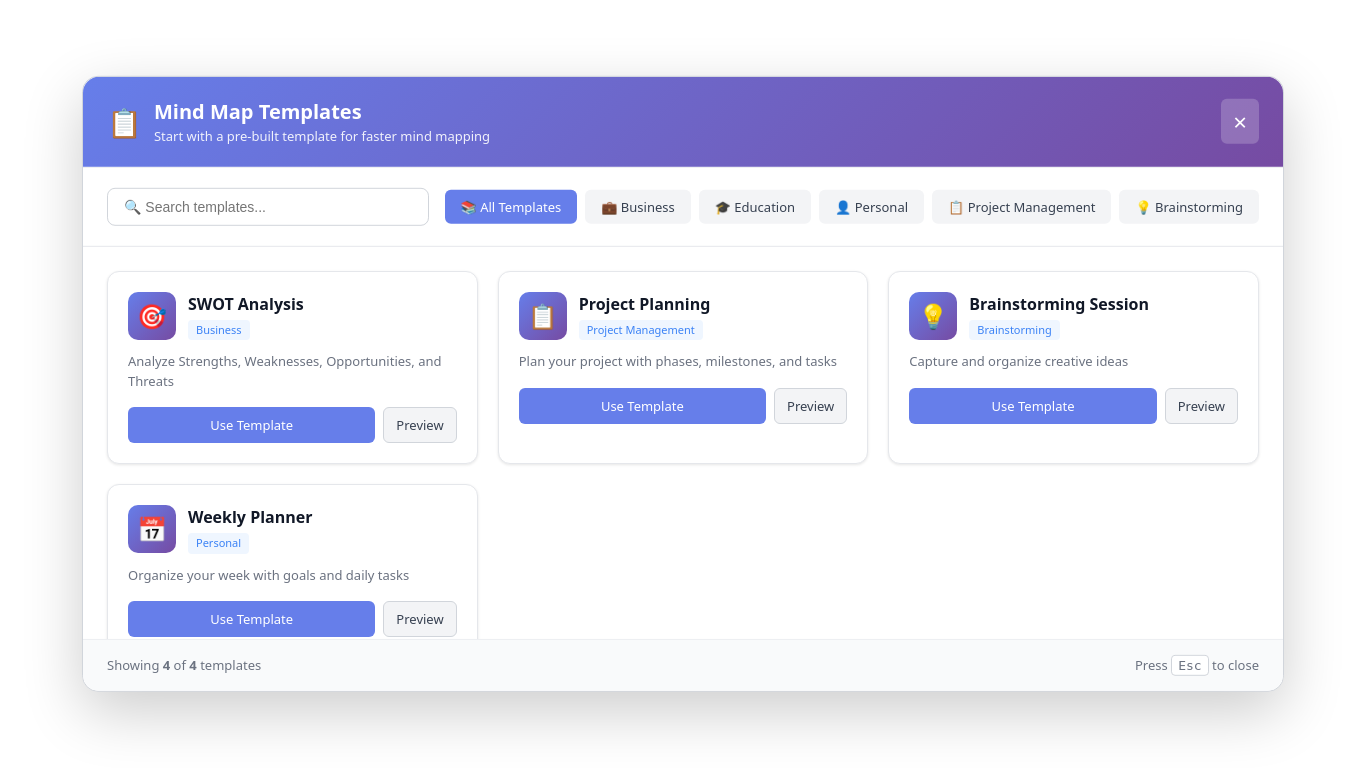
it: TemplatesPanel › template interaction › opens preview modal when "Preview" button is clicked
Click the button with aria-label "preview swot analysis template": (420, 425) [383, 407, 457, 443]
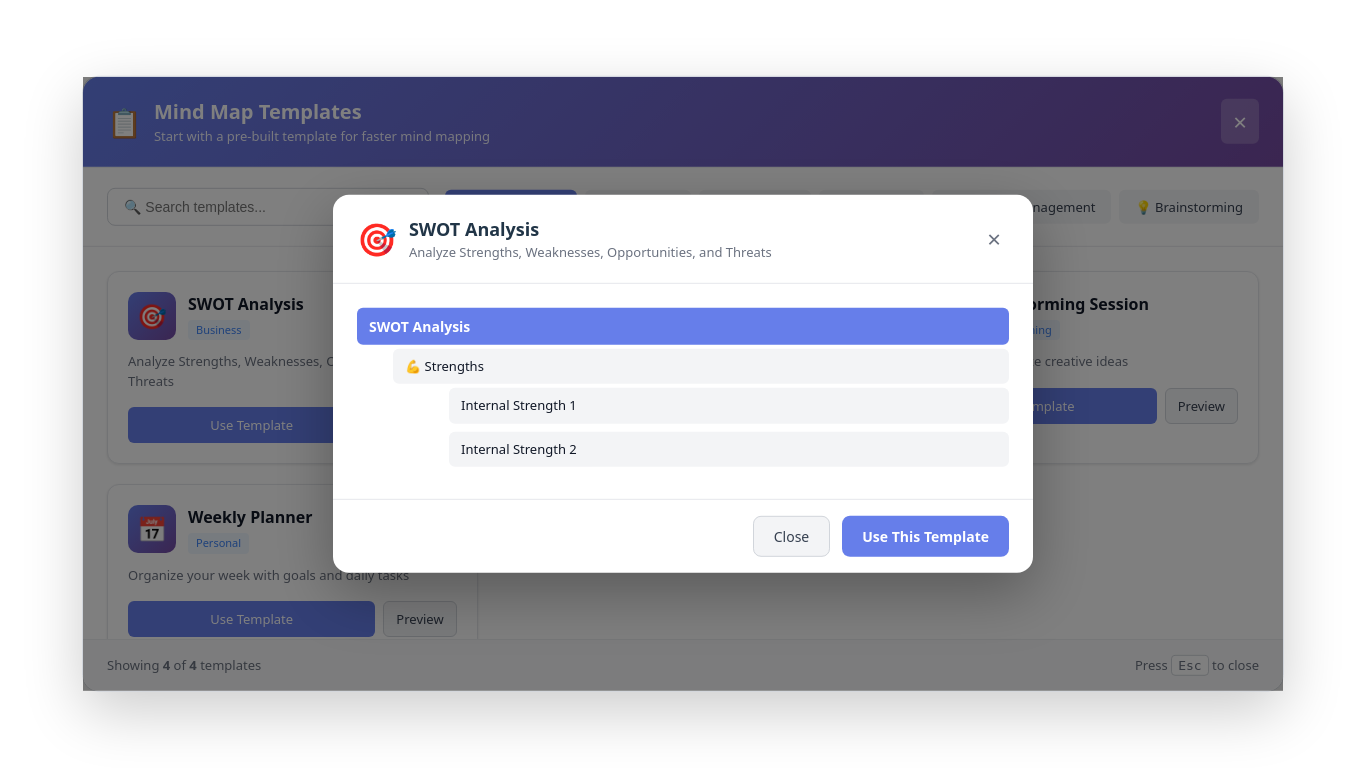
Expected: the number of dialogs is 2
